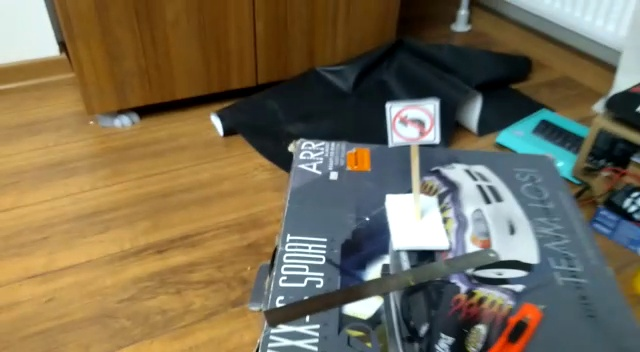sola_donulmez: (392, 103, 436, 143)
